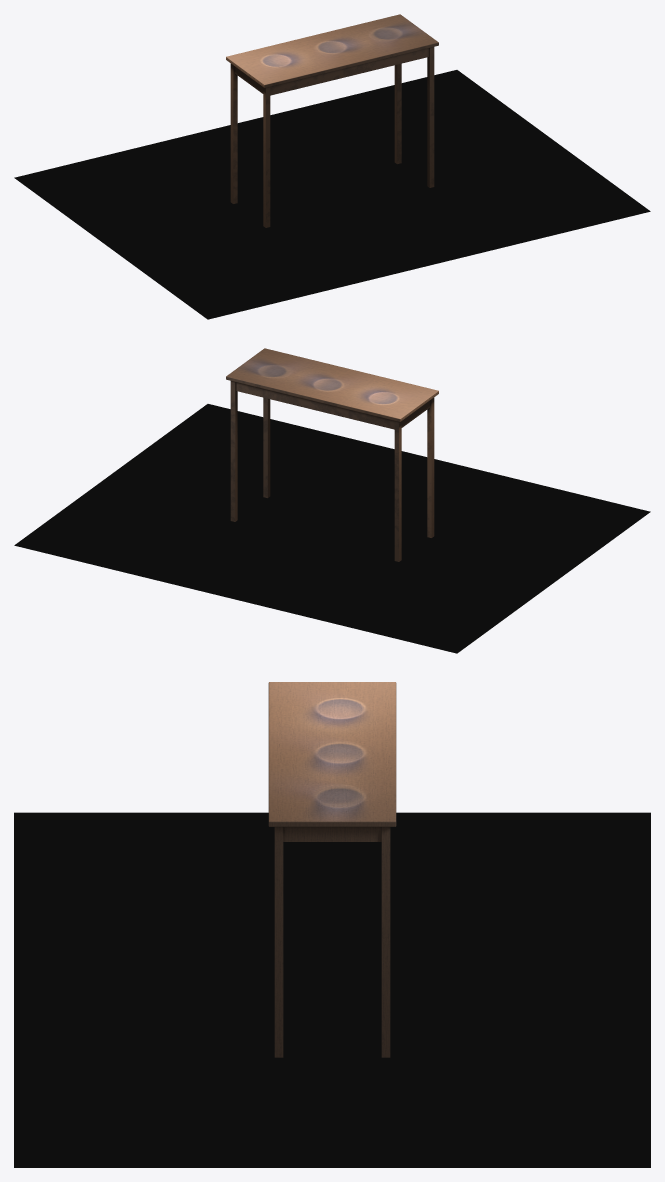
File: 804_water.glb
The picture shows the model from 3 angles, top to bottom: view 1: azimuth 30°, elevation 25°; view 2: azimuth 150°, elevation 25°; view 3: azimuth 270°, elevation 25°; orthographic projection. The views are drawn at different scales.
Visible parts, largest first — view 1: Shadow, Table; view 2: Shadow, Table; view 3: Shadow, Table.
Boxes of the visible parts, left/top/right/bottom form: Shadow: left=14, top=70, right=650, bottom=319; Table: left=226, top=14, right=438, bottom=227; Shadow: left=14, top=404, right=650, bottom=653; Table: left=226, top=348, right=438, bottom=561; Shadow: left=14, top=812, right=650, bottom=1167; Table: left=268, top=682, right=396, bottom=1057.
Size of the model in its own units: 9.9 by 3.1 by 7.5.
Materials: 2 (2 with a texture image).
